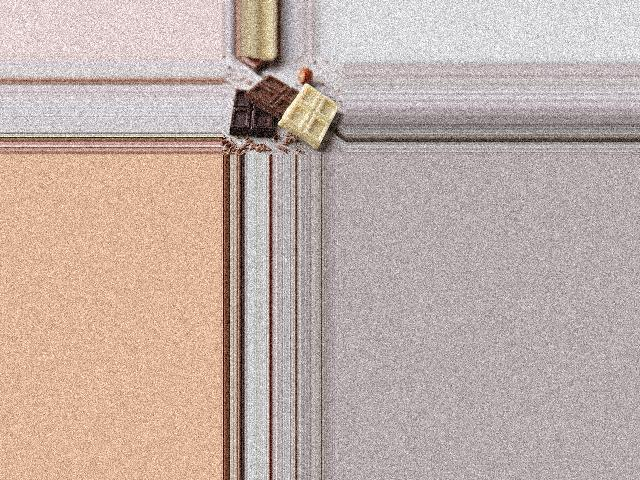chocolate: (224, 74, 338, 142)
